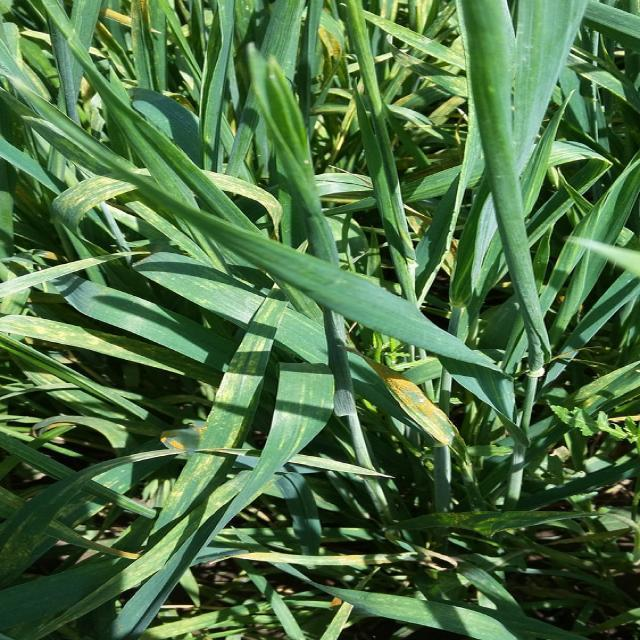Yellow Rust: (359, 356, 468, 464)
